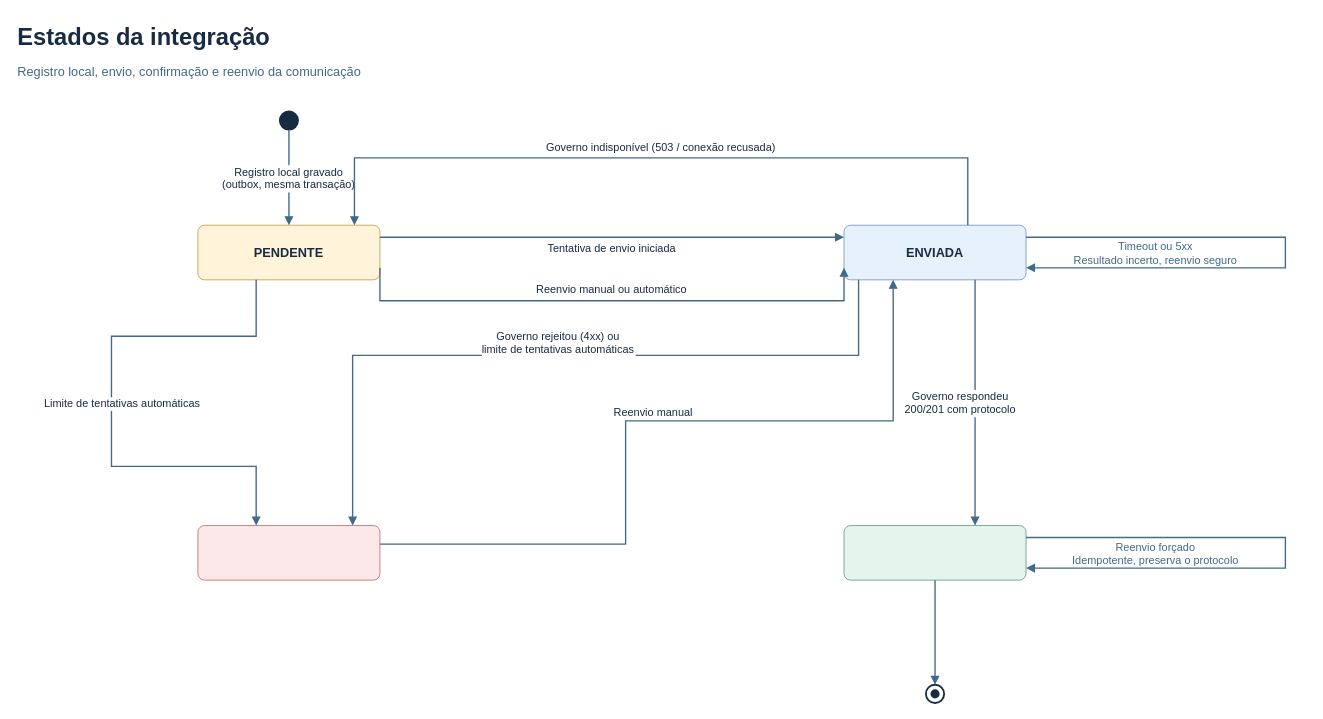
Some shapes in this 1323 by 719 pixel diagram are drawn without their labels. The shapes that lost their labels are listed below. From the top down, each one's box as (x1, y1, x2, y2) in pixels, then its label:
(197, 525, 380, 580): FALHA
(843, 525, 1026, 580): CONFIRMADA
